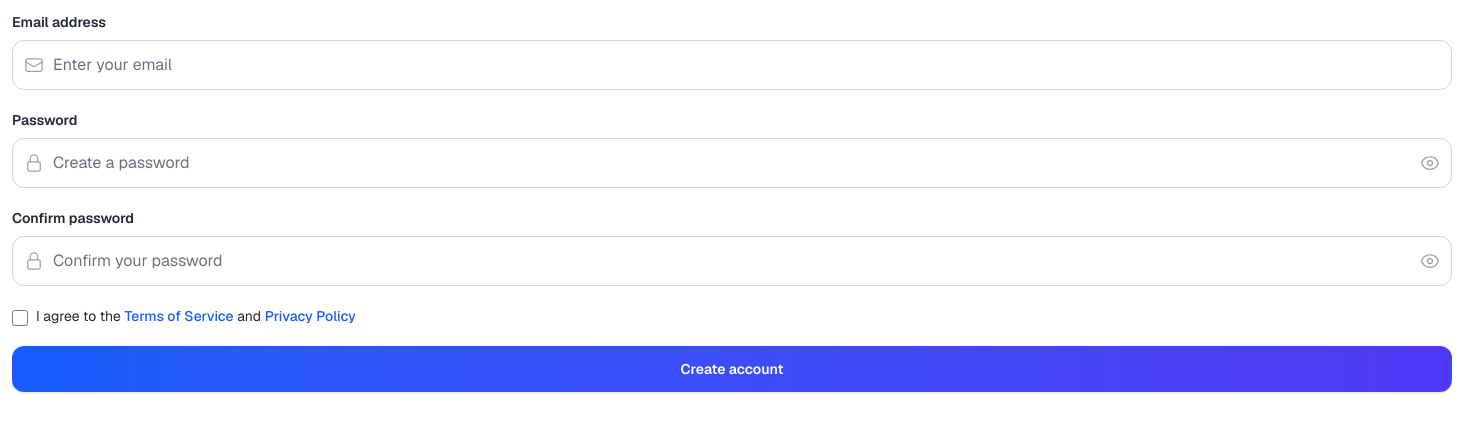
SignupForm › validates password confirmation
Type "example@example.com" into the field labelled "Email address" at (732, 65), box [12,40,1452,90]
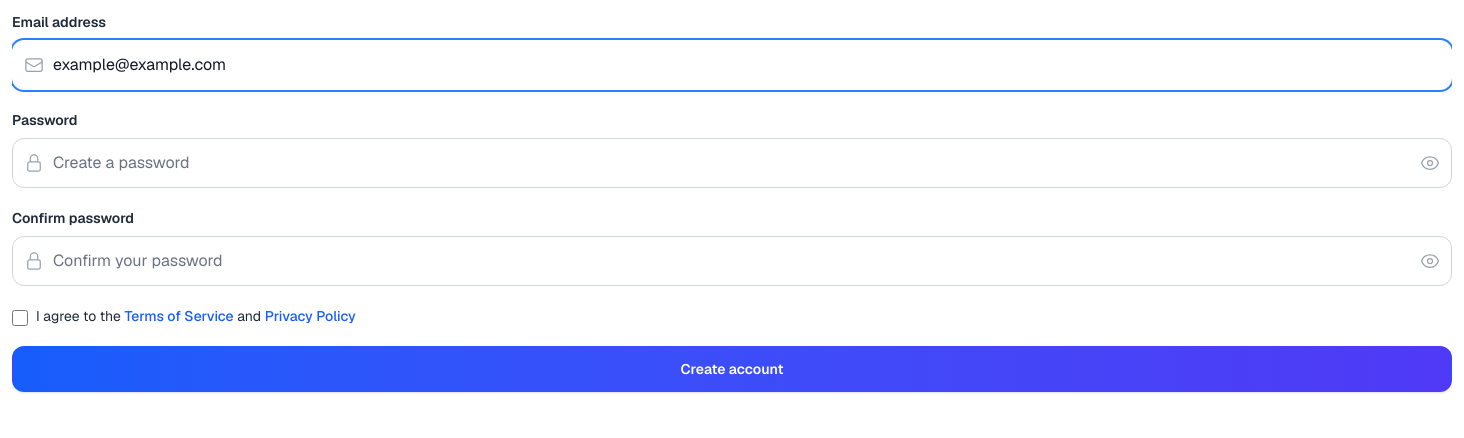
Type "password1234" into the password field labelled "Password" at (732, 163), box [12,138,1452,188]
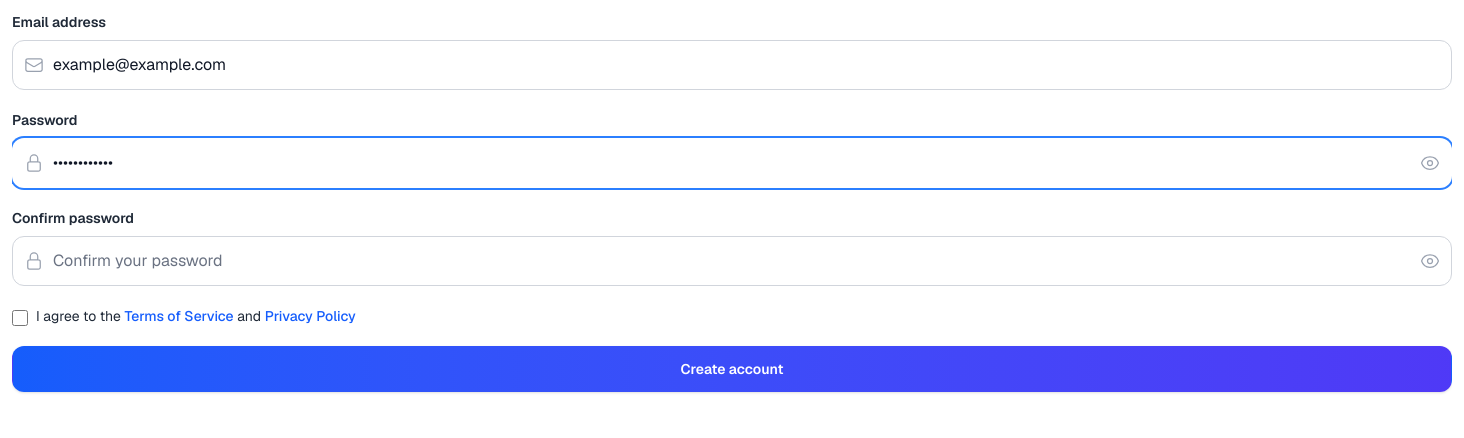
Type "differentpassword" into the password field labelled "Confirm password" at (732, 261), box [12,236,1452,286]
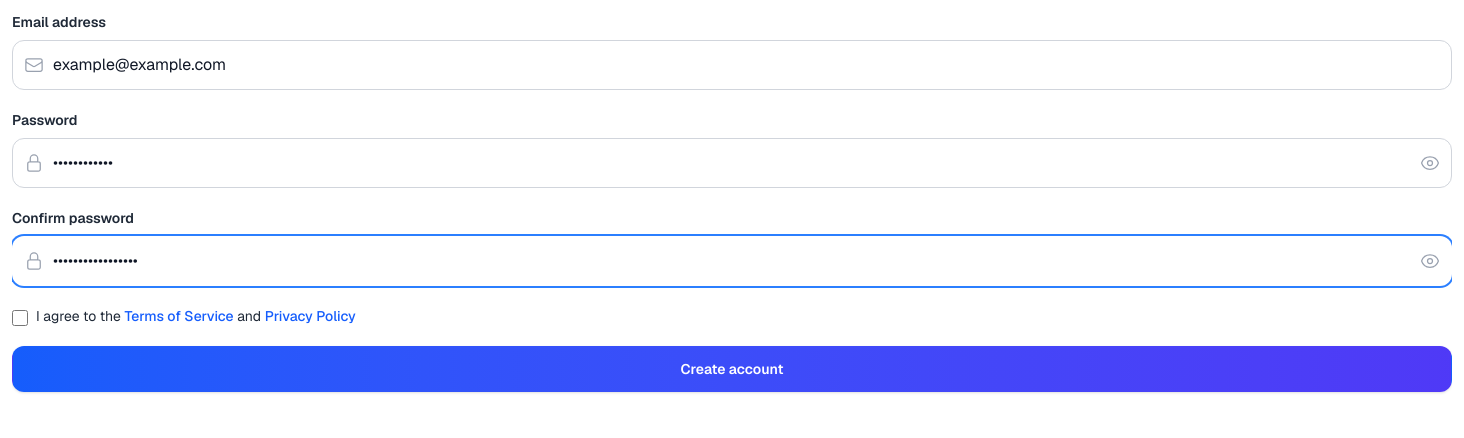
Click the checkbox labelled "I agree to the Terms of Service and Privacy Policy" at (20, 318), box [12,310,28,326]
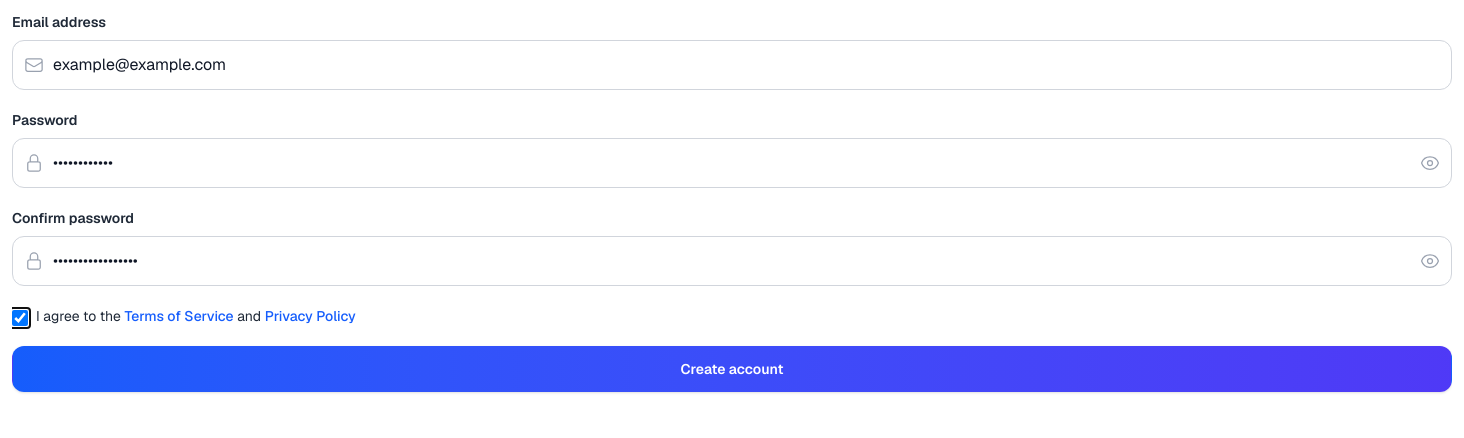
Click the button "Create account" at (732, 369), box [12,346,1452,392]
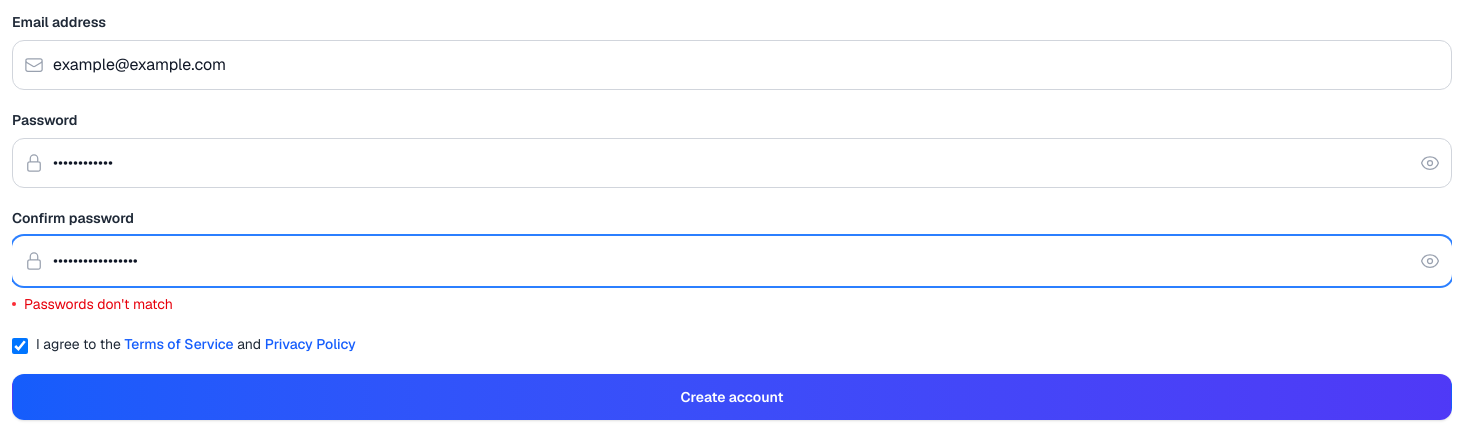
Now the text "Passwords don't match" is shown, box [12,295,173,313]
